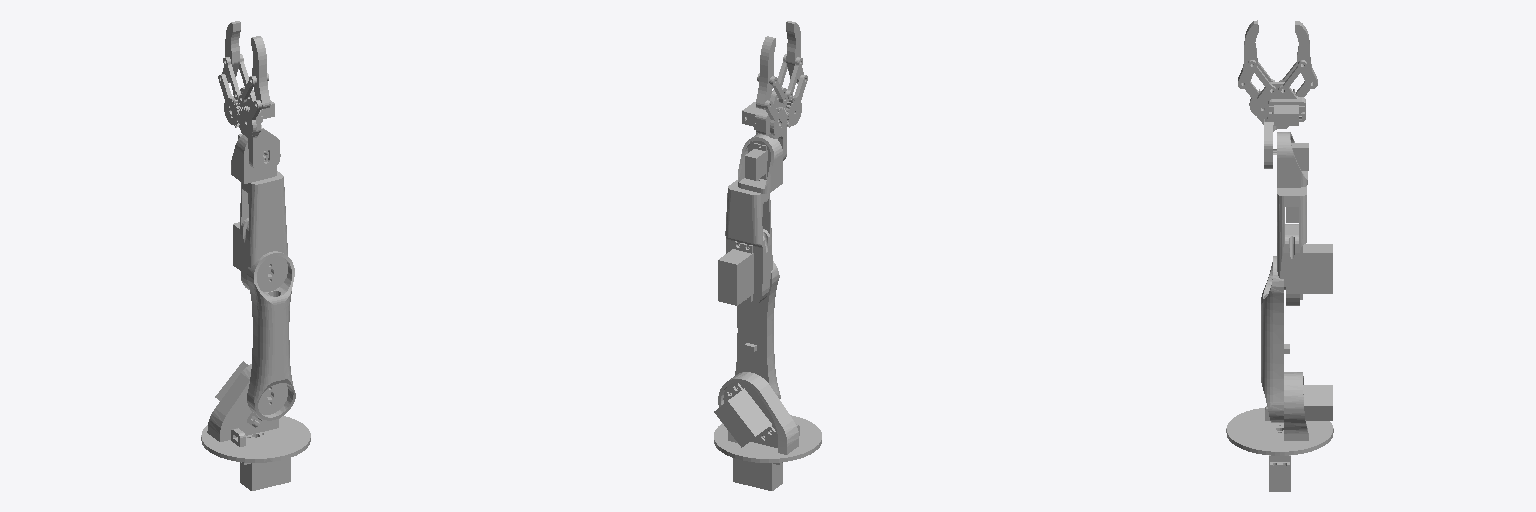
URDF robot description (arm_assembly):
<?xml version="1.0" encoding="utf-8"?>
<!-- This URDF was automatically created by SolidWorks to URDF Exporter! Originally created by [author] ([email redacted]) 
     Commit Version: 1.6.0-4-g7f85cfe  Build Version: 1.6.7995.38578
     For more information, please see http://wiki.ros.org/sw_urdf_exporter -->
<robot
  name="arm_assembly">
  <link
    name="base_link">
    <inertial>
      <origin
        xyz="0.00974401975649949 5.20417042793042E-18 -0.0246719054070537"
        rpy="0 0 0" />
      <mass
        value="0.0313441907558178" />
      <inertia
        ixx="4.5678163619065E-06"
        ixy="2.53631801925393E-22"
        ixz="7.56580208230379E-08"
        iyy="7.88177129027588E-06"
        iyz="1.46613622228486E-22"
        izz="5.3555618171031E-06" />
    </inertial>
    <visual>
      <origin
        xyz="0 0 0"
        rpy="0 0 0" />
      <geometry>
        <mesh
          filename="package://arm_assembly/meshes/base_link.STL" />
      </geometry>
      <material
        name="">
        <color
          rgba="0.752941176470588 0.752941176470588 0.752941176470588 1" />
      </material>
    </visual>
    <collision>
      <origin
        xyz="0 0 0"
        rpy="0 0 0" />
      <geometry>
        <mesh
          filename="package://arm_assembly/meshes/base_link.STL" />
      </geometry>
    </collision>
  </link>
  <link
    name="waist_link">
    <inertial>
      <origin
        xyz="0.00309051136490831 0.0133596181959505 0.0222730216828316"
        rpy="0 0 0" />
      <mass
        value="0.0986381291251367" />
      <inertia
        ixx="5.12001141639425E-05"
        ixy="-5.8732346076499E-07"
        ixz="-7.8982030556206E-06"
        iyy="6.34361781394893E-05"
        iyz="-5.11350329063062E-06"
        izz="6.08798554414956E-05" />
    </inertial>
    <visual>
      <origin
        xyz="0 0 0"
        rpy="0 0 0" />
      <geometry>
        <mesh
          filename="package://arm_assembly/meshes/waist_link.STL" />
      </geometry>
      <material
        name="">
        <color
          rgba="0.752941176470588 0.752941176470588 0.752941176470588 1" />
      </material>
    </visual>
    <collision>
      <origin
        xyz="0 0 0"
        rpy="0 0 0" />
      <geometry>
        <mesh
          filename="package://arm_assembly/meshes/waist_link.STL" />
      </geometry>
    </collision>
  </link>
  <joint
    name="joint1"
    type="continuous">
    <origin
      xyz="0 0 0"
      rpy="0 0 0" />
    <parent
      link="base_link" />
    <child
      link="waist_link" />
    <axis
      xyz="0 0 -1" />
  </joint>
  <link
    name="arm1_link">
    <inertial>
      <origin
        xyz="-0.000127471988271712 -0.00355473194721746 0.0585850255916813"
        rpy="0 0 0" />
      <mass
        value="0.0659056350151723" />
      <inertia
        ixx="0.000107110770778733"
        ixy="-4.72987281825316E-10"
        ixz="-3.03283571853937E-09"
        iyy="0.000111920103634371"
        iyz="-2.15990317162006E-07"
        izz="9.16885453330055E-06" />
    </inertial>
    <visual>
      <origin
        xyz="0 0 0"
        rpy="0 0 0" />
      <geometry>
        <mesh
          filename="package://arm_assembly/meshes/arm1_link.STL" />
      </geometry>
      <material
        name="">
        <color
          rgba="0.752941176470588 0.752941176470588 0.752941176470588 1" />
      </material>
    </visual>
    <collision>
      <origin
        xyz="0 0 0"
        rpy="0 0 0" />
      <geometry>
        <mesh
          filename="package://arm_assembly/meshes/arm1_link.STL" />
      </geometry>
    </collision>
  </link>
  <joint
    name="joint2"
    type="continuous">
    <origin
      xyz="0.013919 0 0.040276"
      rpy="0 0 0" />
    <parent
      link="waist_link" />
    <child
      link="arm1_link" />
    <axis
      xyz="0 -1 0" />
  </joint>
  <link
    name="arm2_link">
    <inertial>
      <origin
        xyz="-4.12556383635534E-05 0.0163526399886699 0.0317323255524502"
        rpy="0 0 0" />
      <mass
        value="0.0939634786908005" />
      <inertia
        ixx="6.31700859983252E-05"
        ixy="-1.41287275946099E-09"
        ixz="-2.95608214811324E-08"
        iyy="6.41735631492537E-05"
        iyz="-3.16064449644326E-07"
        izz="1.50896926997713E-05" />
    </inertial>
    <visual>
      <origin
        xyz="0 0 0"
        rpy="0 0 0" />
      <geometry>
        <mesh
          filename="package://arm_assembly/meshes/arm2_link.STL" />
      </geometry>
      <material
        name="">
        <color
          rgba="0.752941176470588 0.752941176470588 0.752941176470588 1" />
      </material>
    </visual>
    <collision>
      <origin
        xyz="0 0 0"
        rpy="0 0 0" />
      <geometry>
        <mesh
          filename="package://arm_assembly/meshes/arm2_link.STL" />
      </geometry>
    </collision>
  </link>
  <joint
    name="joint3"
    type="continuous">
    <origin
      xyz="0 0 0.12"
      rpy="0 -0.0085284 0" />
    <parent
      link="arm1_link" />
    <child
      link="arm2_link" />
    <axis
      xyz="0 -1 0" />
  </joint>
  <link
    name="arm3_link">
    <inertial>
      <origin
        xyz="-0.00503335413202529 -0.0030007018496579 0.0195054380574984"
        rpy="0 0 0" />
      <mass
        value="0.0234826216736623" />
      <inertia
        ixx="4.62571245385524E-06"
        ixy="4.10079513101551E-09"
        ixz="-1.10019880917336E-08"
        iyy="5.40770686822685E-06"
        iyz="6.17474896766846E-07"
        izz="3.10214939862083E-06" />
    </inertial>
    <visual>
      <origin
        xyz="0 0 0"
        rpy="0 0 0" />
      <geometry>
        <mesh
          filename="package://arm_assembly/meshes/arm3_link.STL" />
      </geometry>
      <material
        name="">
        <color
          rgba="0.752941176470588 0.752941176470588 0.752941176470588 1" />
      </material>
    </visual>
    <collision>
      <origin
        xyz="0 0 0"
        rpy="0 0 0" />
      <geometry>
        <mesh
          filename="package://arm_assembly/meshes/arm3_link.STL" />
      </geometry>
    </collision>
  </link>
  <joint
    name="joint4"
    type="continuous">
    <origin
      xyz="-0.0053 0.011 0.093753"
      rpy="0 0 0" />
    <parent
      link="arm2_link" />
    <child
      link="arm3_link" />
    <axis
      xyz="0 0 1" />
  </joint>
  <link
    name="gripper_link">
    <inertial>
      <origin
        xyz="-0.00865272941298689 -0.0126496793942134 0.0489391532514527"
        rpy="0 0 0" />
      <mass
        value="0.0420479280472721" />
      <inertia
        ixx="1.32296190972946E-05"
        ixy="3.87408832583189E-07"
        ixz="1.36413024433795E-06"
        iyy="1.18089301485161E-05"
        iyz="-1.38624173760227E-06"
        izz="3.99184367259334E-06" />
    </inertial>
    <visual>
      <origin
        xyz="0 0 0"
        rpy="0 0 0" />
      <geometry>
        <mesh
          filename="package://arm_assembly/meshes/gripper_link.STL" />
      </geometry>
      <material
        name="">
        <color
          rgba="0.752941176470588 0.752941176470588 0.752941176470588 1" />
      </material>
    </visual>
    <collision>
      <origin
        xyz="0 0 0"
        rpy="0 0 0" />
      <geometry>
        <mesh
          filename="package://arm_assembly/meshes/gripper_link.STL" />
      </geometry>
    </collision>
  </link>
  <joint
    name="joint5"
    type="continuous">
    <origin
      xyz="-0.005 0 0.027997"
      rpy="0 0 0" />
    <parent
      link="arm3_link" />
    <child
      link="gripper_link" />
    <axis
      xyz="0 1 0" />
  </joint>
</robot>

--- What the picture shows (computed from the rendered views, not written in the file) ---
3 views of the same robot in one strip: view 1: azimuth 30°, elevation 25°; view 2: azimuth 150°, elevation 25°; view 3: azimuth 270°, elevation 25° (orthographic).
Robot: arm_assembly — 6 links, 5 joints (5 continuous); root link base_link; default pose: all joints at 0.
Visible links, largest first — view 1: arm1_link, waist_link, gripper_link, arm2_link, base_link, arm3_link; view 2: waist_link, arm2_link, gripper_link, arm1_link, arm3_link, base_link; view 3: waist_link, gripper_link, arm2_link, arm1_link, arm3_link, base_link.
Link boxes in pixels (box(x1,y1,x2,y2)): arm1_link: box(247, 251, 295, 427); waist_link: box(201, 361, 310, 462); gripper_link: box(218, 21, 280, 171); arm2_link: box(233, 171, 287, 289); base_link: box(240, 458, 290, 490); arm3_link: box(231, 134, 276, 183); waist_link: box(714, 372, 821, 462); arm2_link: box(718, 180, 772, 306); gripper_link: box(742, 21, 807, 160); arm1_link: box(735, 261, 780, 398); arm3_link: box(738, 134, 782, 193); base_link: box(733, 458, 782, 490); waist_link: box(1226, 372, 1333, 455); gripper_link: box(1238, 20, 1317, 168); arm2_link: box(1277, 186, 1332, 305); arm1_link: box(1261, 256, 1289, 422); arm3_link: box(1273, 132, 1308, 187); base_link: box(1269, 455, 1290, 491).
Size in the robot's own frame: 0.097 by 0.0969 by 0.4483 metres.
6 mesh visuals loaded from 6 distinct referenced files (6 binary STL).